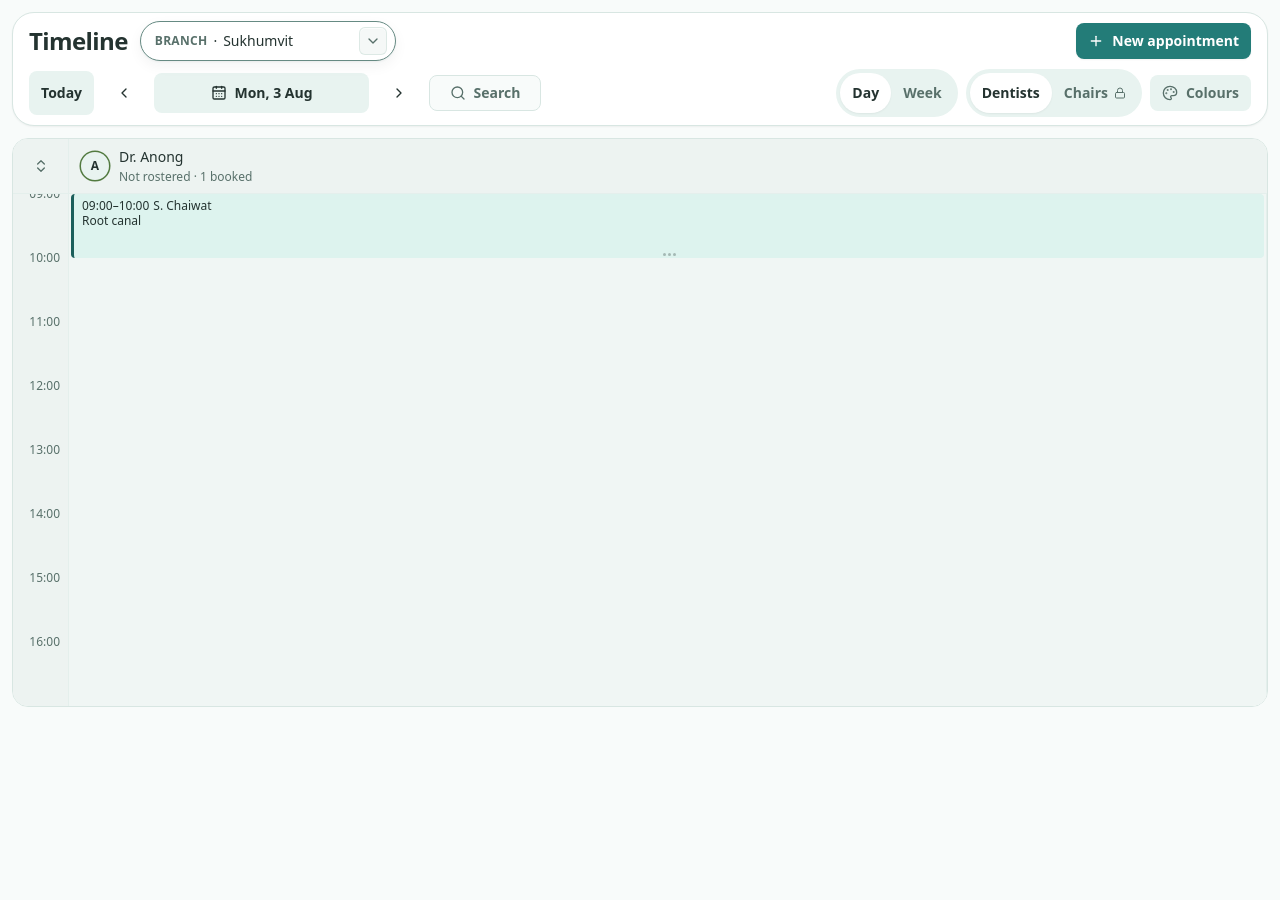
Test: TimelinePage › opens the details drawer for the card that was clicked
The width and height of the screenshot is (1280, 900).
Click the button with test id "appt-a1000000-0000-4000-8000-000000000005".
click(116, 206)  # box [71, 194, 1264, 258]
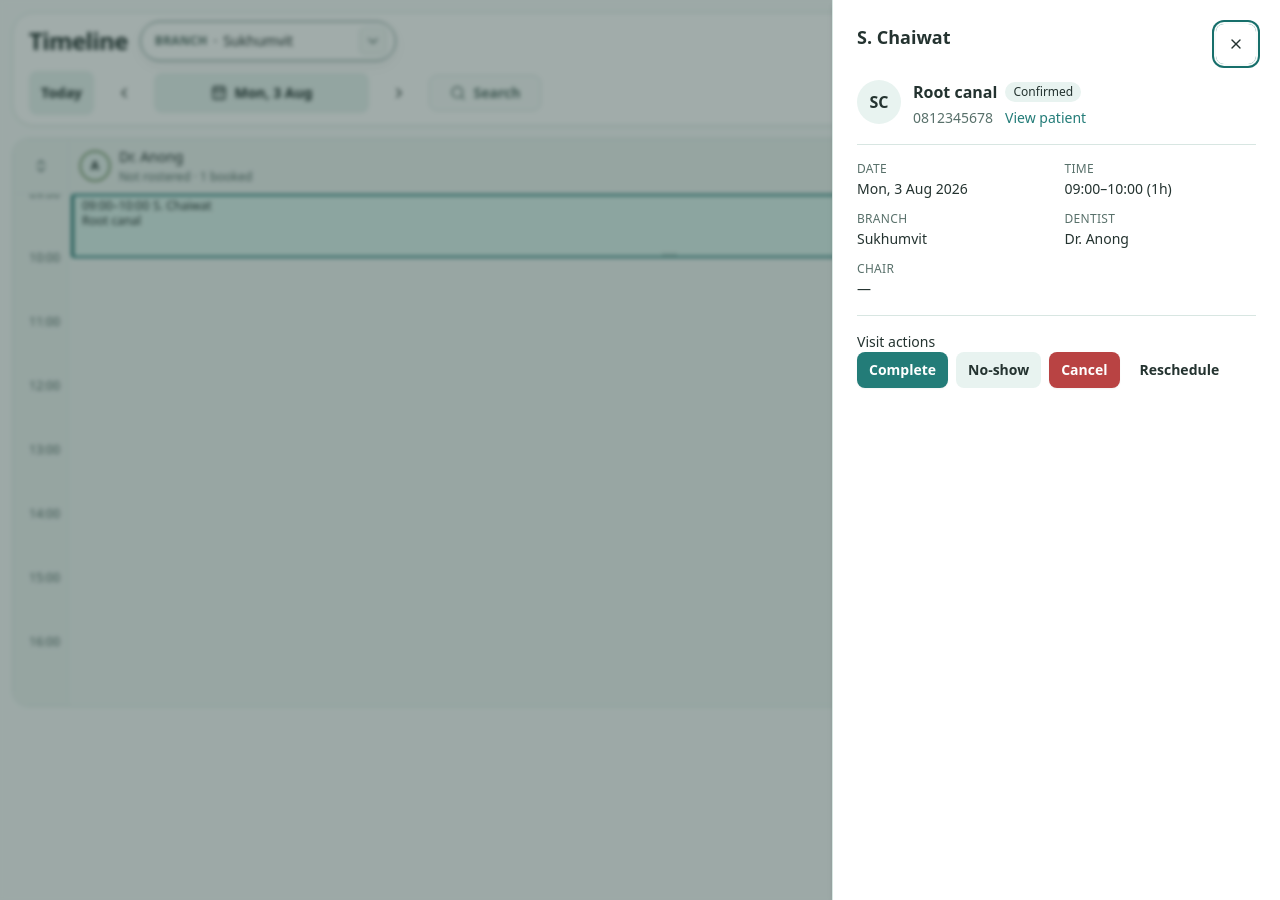
Now the dialog shows "Root canal", box [913, 81, 997, 103]
Now the dialog shows "09:00–10:00", box [1064, 179, 1172, 198]
Now the dialog shows "S. Chaiwat", box [857, 25, 950, 49]
